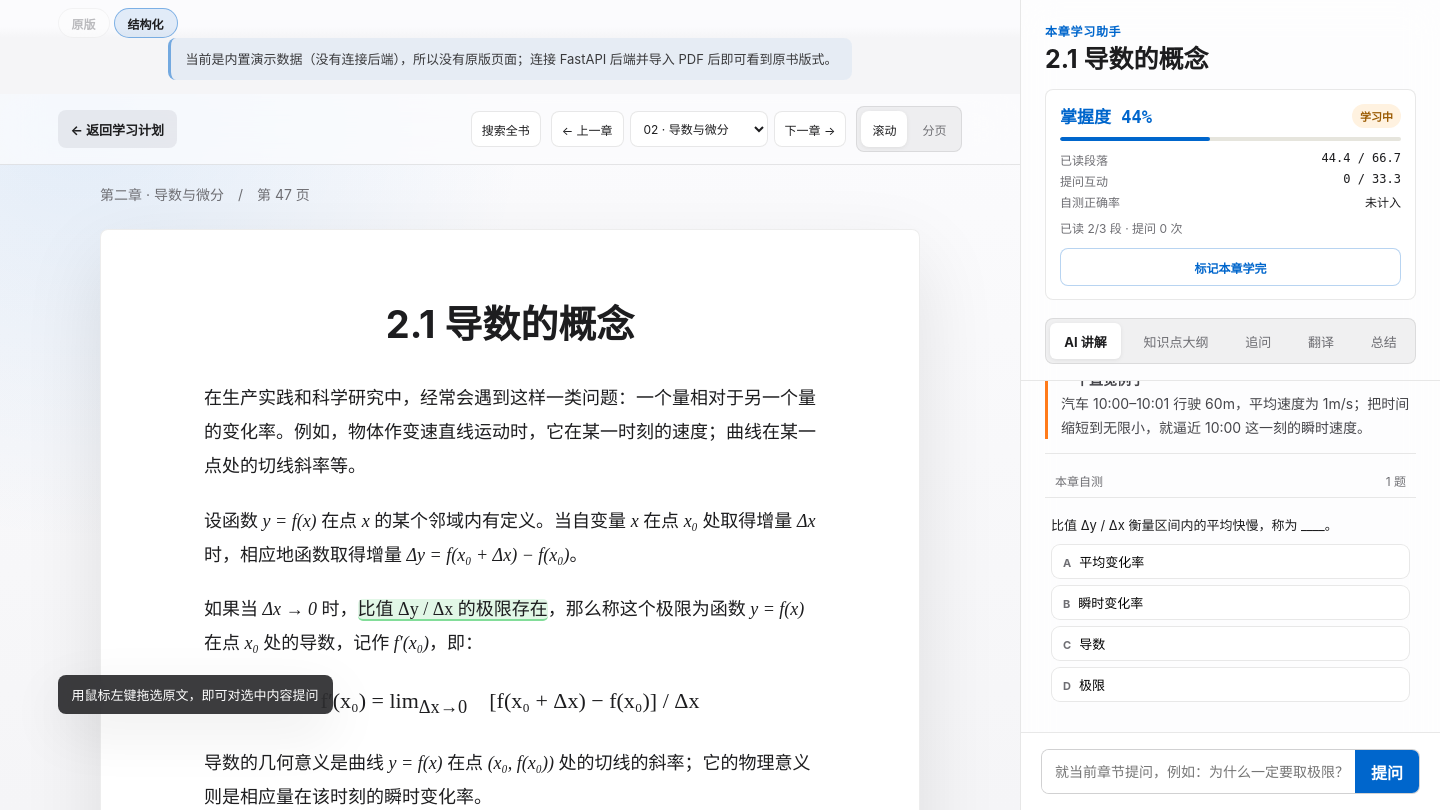
Test: 章末自测 › 答对后掌握度面板的自测项从「未计入」变成真实分数
The width and height of the screenshot is (1440, 810).
(page scrolled)
Click the button with test id "quiz-option-ch2-q1-0". click: (1112,562)
box: [1051,544,1410,580]
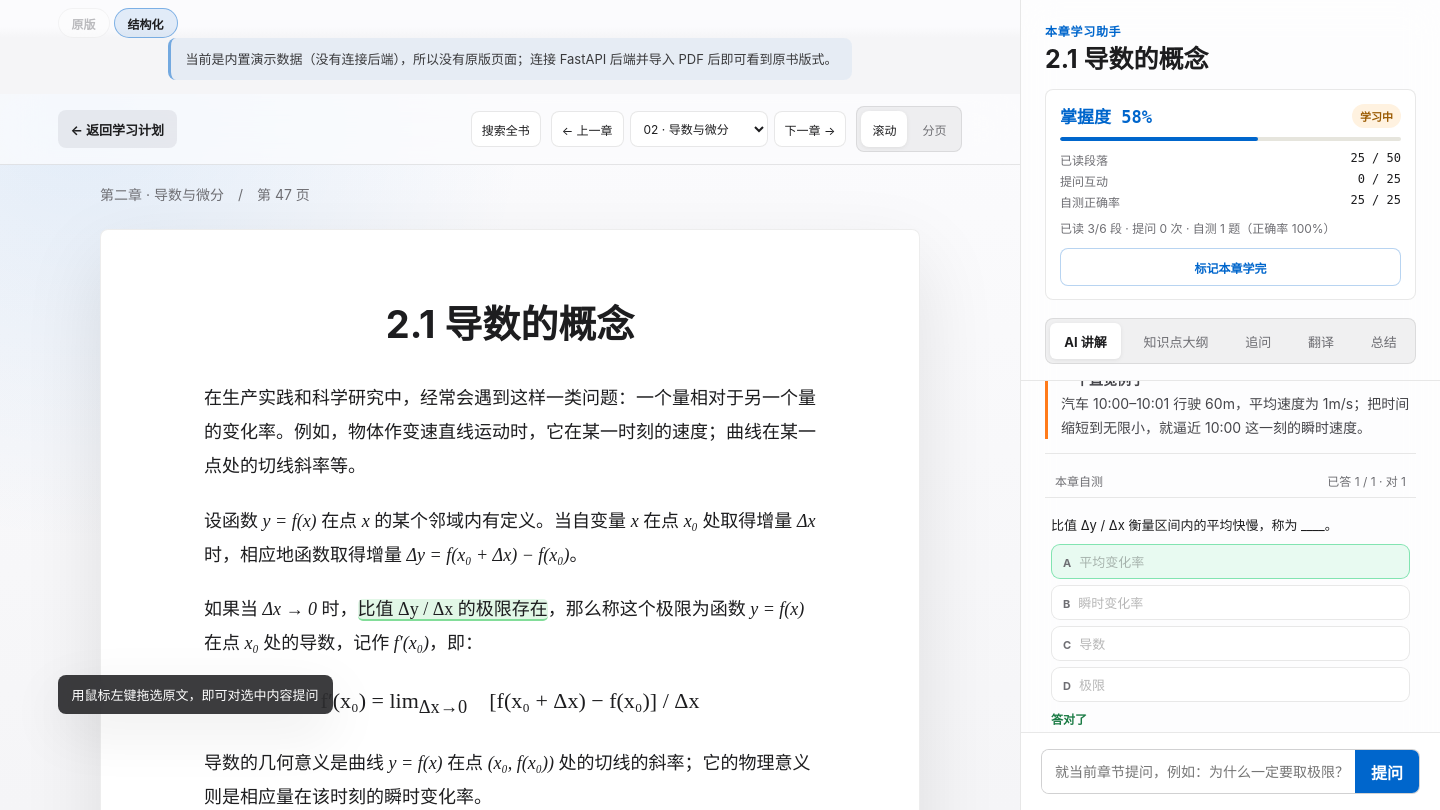
Expected: the element with test id "mastery-panel" shows "自测正确率", [1060,195,1120,210]
Result: the text with test id "quiz-verdict-ch2-q1" reads "答对了" at [1051,712,1087,728]
Result: the element with test id "mastery-panel" shows "25 / 25" at [1350,193,1401,207]
